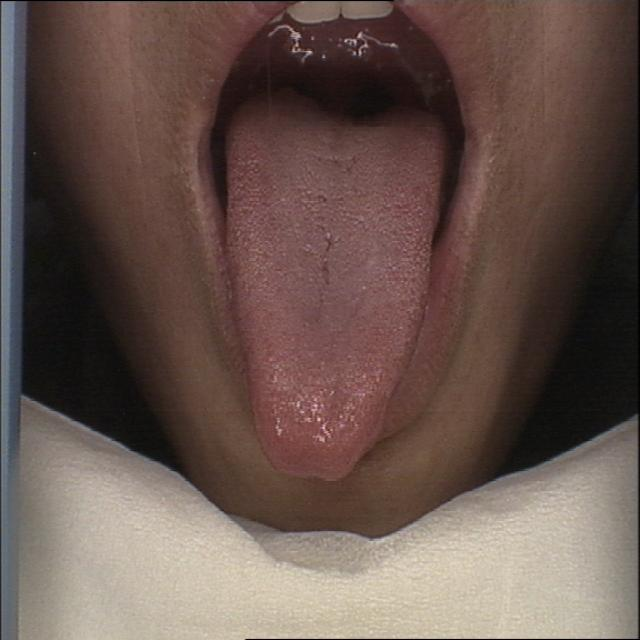tongue: (224, 85, 446, 491)
